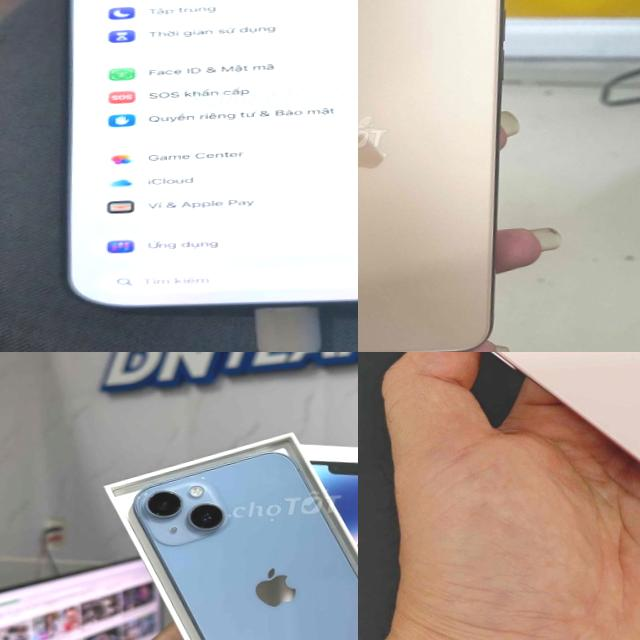gen_11: (358, 0, 505, 352)
gen_14: (127, 444, 358, 640)
gen_15: (358, 352, 640, 596)
gen_16: (66, 0, 358, 308)
